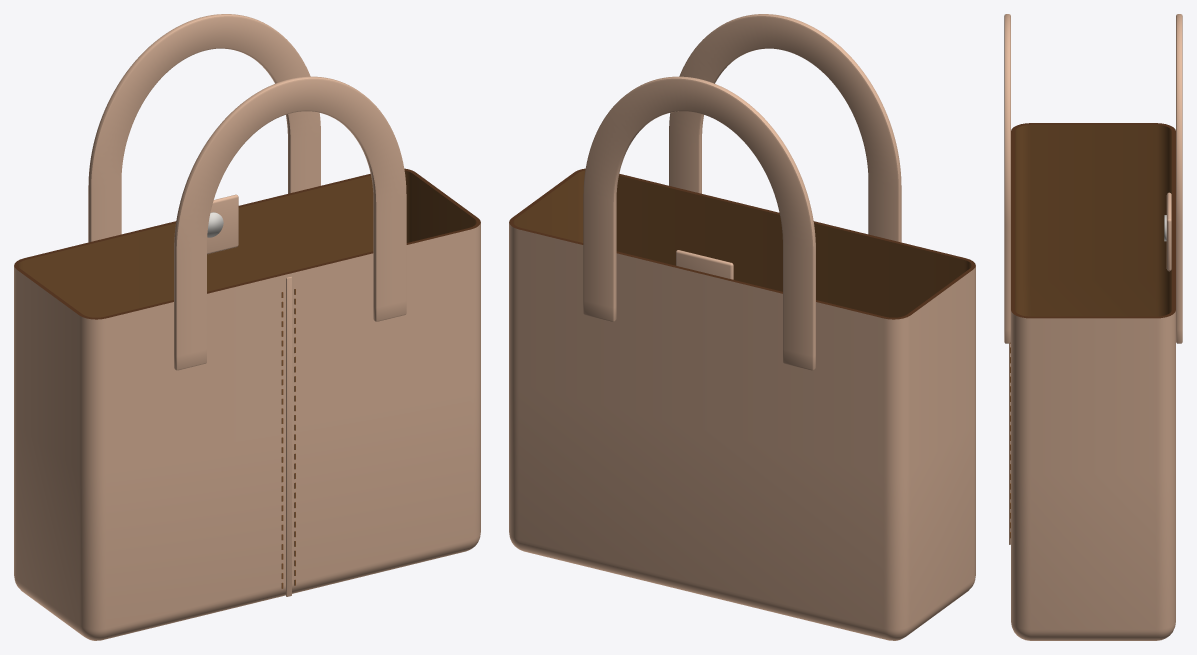
Rendered from m_mupzigmh2ckf.glb.
3 renders of one model, left to right at view 1: azimuth 30°, elevation 25°; view 2: azimuth 150°, elevation 25°; view 3: azimuth 270°, elevation 25°, orthographic.
Parts seen in each view (by area): view 1: Body, HandleFront, HandleBack, Seam, ClosureTab, Stitches; view 2: Body, HandleBack, HandleFront, ClosureTab; view 3: Body, HandleBack, HandleFront, ClosureTab, Seam.
Part boxes in pixels (x1,y1,x2,y2): Body: [14, 168, 480, 640]; HandleFront: [174, 76, 406, 370]; HandleBack: [88, 14, 320, 242]; Seam: [286, 276, 291, 596]; ClosureTab: [207, 194, 238, 254]; Stitches: [281, 289, 295, 588]; Body: [509, 168, 975, 640]; HandleBack: [583, 76, 815, 370]; HandleFront: [669, 14, 901, 242]; ClosureTab: [676, 250, 733, 279]; Body: [1011, 123, 1175, 640]; HandleBack: [1176, 14, 1182, 343]; HandleFront: [1004, 14, 1010, 343]; ClosureTab: [1166, 192, 1171, 271]; Seam: [1009, 343, 1010, 544].
Size of the model in its own units: 0.28 by 0.351 by 0.108.
